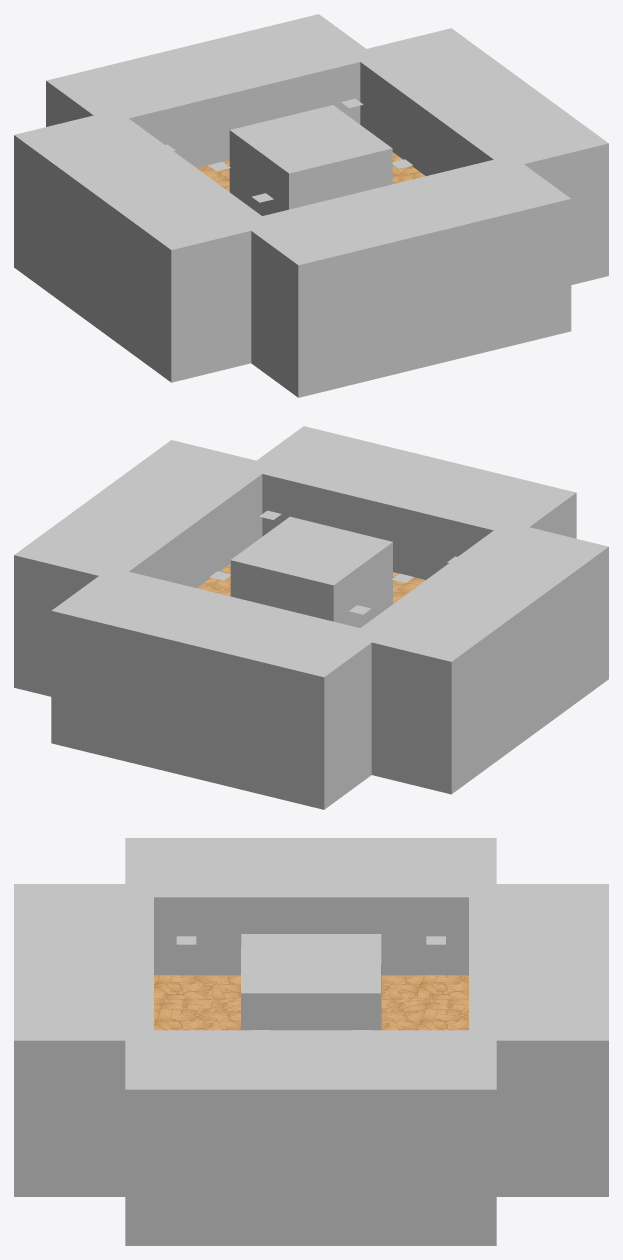
File: level_01.glb
3 views of the same model, one above another, from view 1: azimuth 30°, elevation 25°; view 2: azimuth 150°, elevation 25°; view 3: azimuth 270°, elevation 25° (orthographic). The views are drawn at different scales.
Visible parts, largest first — view 1: Cube.Invisible.007, Cube.Invisible.008, Cube.Invisible.004, Cube.Invisible.006, Cube.Invisible.001, Cube; view 2: Cube.Invisible.006, Cube.Invisible.008, Cube.Invisible.004, Cube.Invisible.007, Cube.Invisible.001, Cube; view 3: Cube.Invisible.004, Cube.Invisible.008, Cube.Invisible.006, Cube.Invisible.007, Cube.Invisible.001, Cube.
Boxes of the visible parts, box(x1,y1,x2,y2) form: Cube.Invisible.007: box(239, 155, 571, 397); Cube.Invisible.008: box(14, 115, 267, 382); Cube.Invisible.004: box(354, 28, 608, 284); Cube.Invisible.006: box(46, 14, 377, 167); Cube.Invisible.001: box(229, 105, 392, 215); Cube: box(197, 152, 425, 191); Cube.Invisible.006: box(51, 567, 382, 809); Cube.Invisible.008: box(354, 527, 608, 794); Cube.Invisible.004: box(14, 440, 269, 696); Cube.Invisible.007: box(244, 426, 576, 579); Cube.Invisible.001: box(230, 516, 392, 627); Cube: box(197, 563, 425, 603); Cube.Invisible.004: box(125, 1030, 496, 1245); Cube.Invisible.008: box(125, 838, 496, 975); Cube.Invisible.006: box(469, 884, 608, 1196); Cube.Invisible.007: box(14, 884, 153, 1196); Cube.Invisible.001: box(241, 934, 381, 1030); Cube: box(154, 975, 468, 1030).
Size of the model in its own units: 60.46 by 17.5 by 60.41.
Materials: 1 (1 with a texture image).
